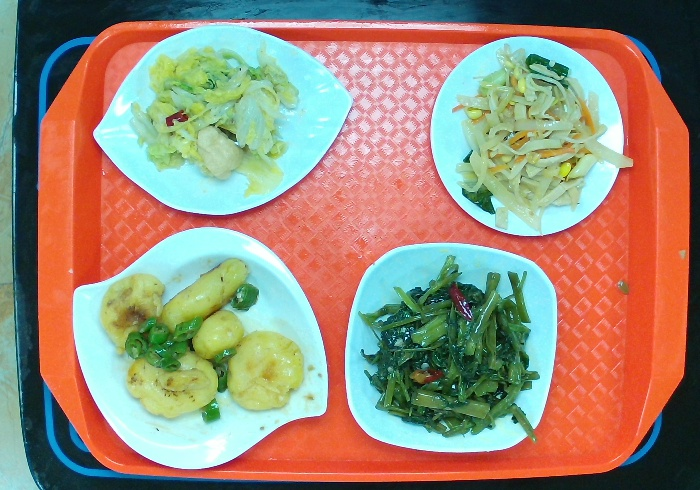RJxy-Da_Du_Pan: (90, 24, 357, 215)
RJxy-Shuang_Jiao_Pan: (67, 225, 329, 473)
RJxy-Si_Fang_Wan: (345, 240, 560, 455)
RJxy-Xiao_Yuan_Die: (425, 33, 626, 236)
